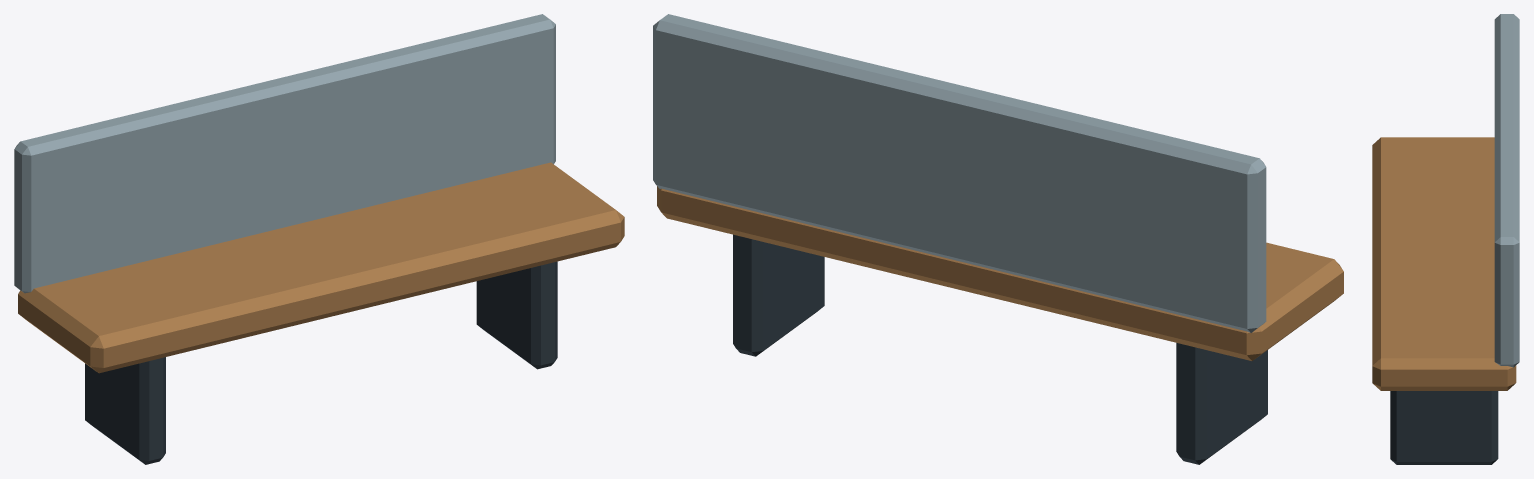
The model's file is bench.lod0.glb.
3 views of the same model, side by side, from view 1: azimuth 30°, elevation 25°; view 2: azimuth 150°, elevation 25°; view 3: azimuth 270°, elevation 25° (orthographic). The views are drawn at different scales.
Visible parts, largest first — view 1: structure; view 2: structure; view 3: structure.
Boxes of the visible parts, <box> form: structure: <box>14,14,624,464</box>; structure: <box>653,14,1343,464</box>; structure: <box>1372,14,1519,464</box>.
Bounding box in the file's own units: 3 × 1.55 × 0.82.
